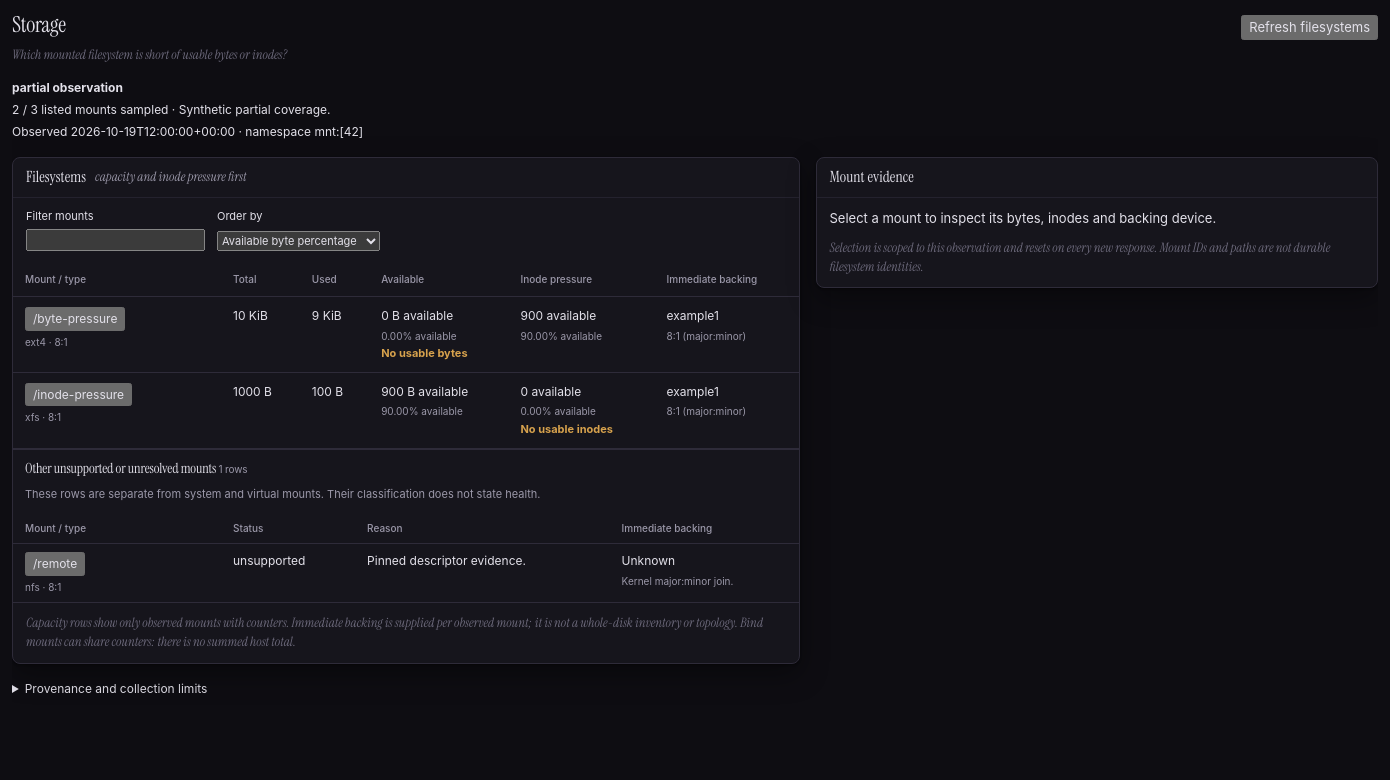
Test: makes refresh failure explicit rather than retaining current-looking evidence
Expected: the button "/byte-pressure" is shown, [25,307,125,331]
Click the button "Refresh filesystems" at (1310, 27), box [1241,15,1378,40]
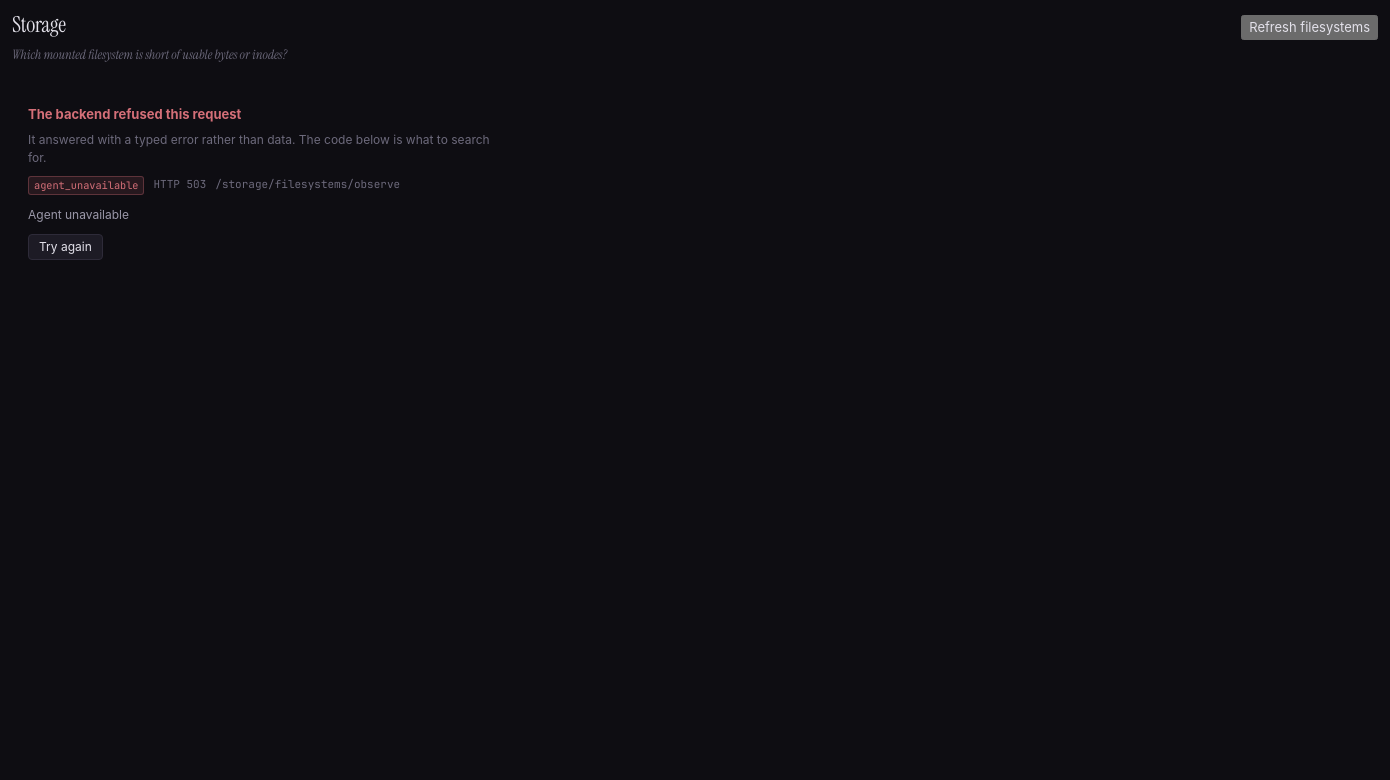
Expected: the text "Agent unavailable" is shown, [28,206,129,223]
Expected: the button "/byte-pressure" is gone
